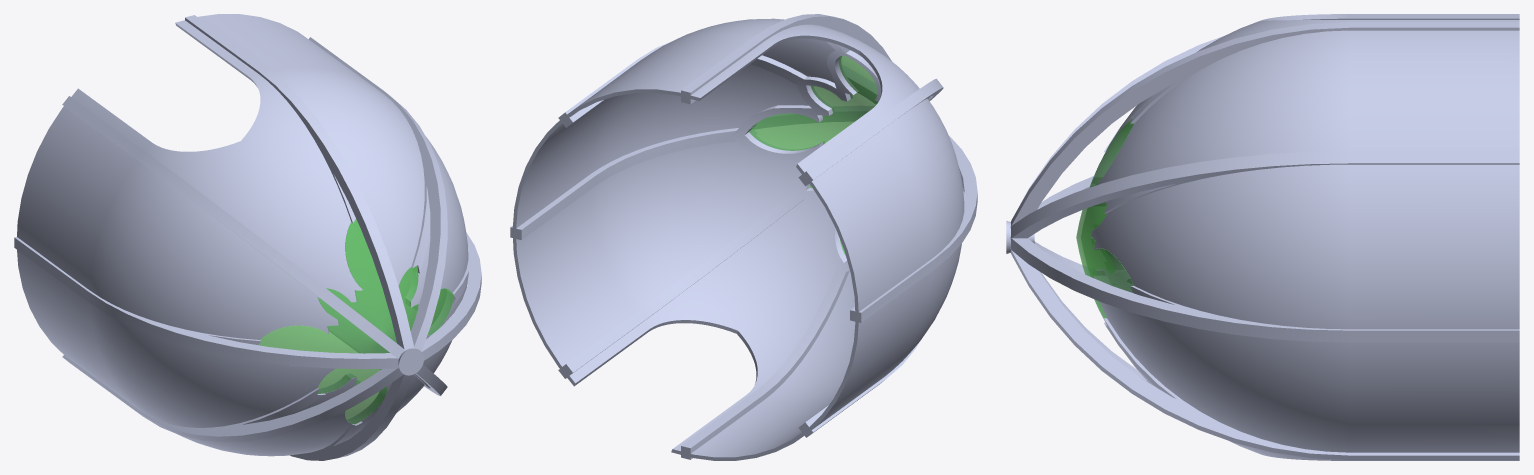
Rendered from chefdoeuvre.glb.
3 views of the same model, side by side, from view 1: azimuth 30°, elevation 25°; view 2: azimuth 150°, elevation 25°; view 3: azimuth 270°, elevation 25° (orthographic). The views are drawn at different scales.
Parts seen in each view (by area): view 1: ne pas supprimer projet comagnons; view 2: ne pas supprimer projet comagnons; view 3: ne pas supprimer projet comagnons.
Boxes of the visible parts, box(x1,y1,x2,y2) form: ne pas supprimer projet comagnons: box(14, 14, 481, 460); ne pas supprimer projet comagnons: box(510, 14, 977, 460); ne pas supprimer projet comagnons: box(1006, 14, 1519, 460).
Bounding box in the file's own units: 0.2066 × 0.2066 × 0.2261.
